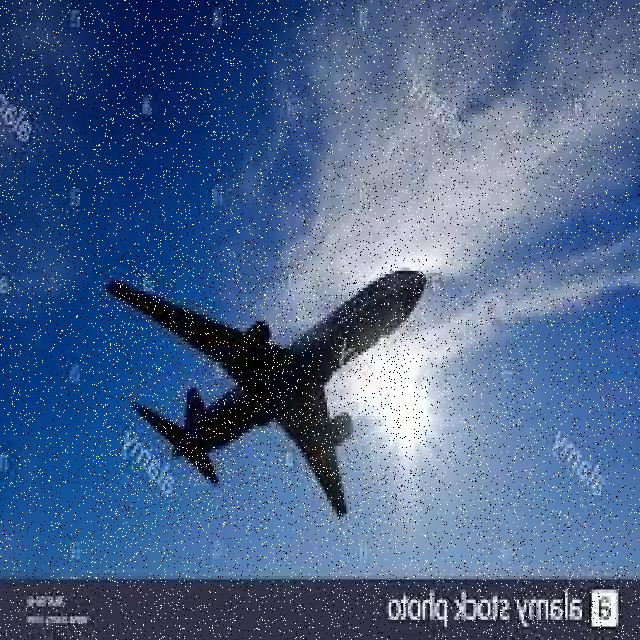MIL_MBT: (101, 256, 426, 527)
